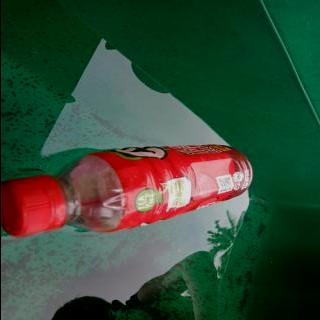bottle: (0, 144, 254, 238)
